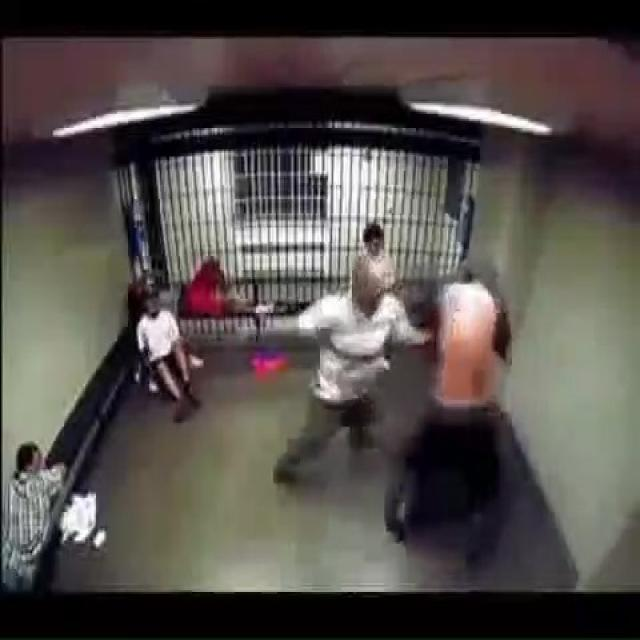fight: (275, 249, 518, 573)
